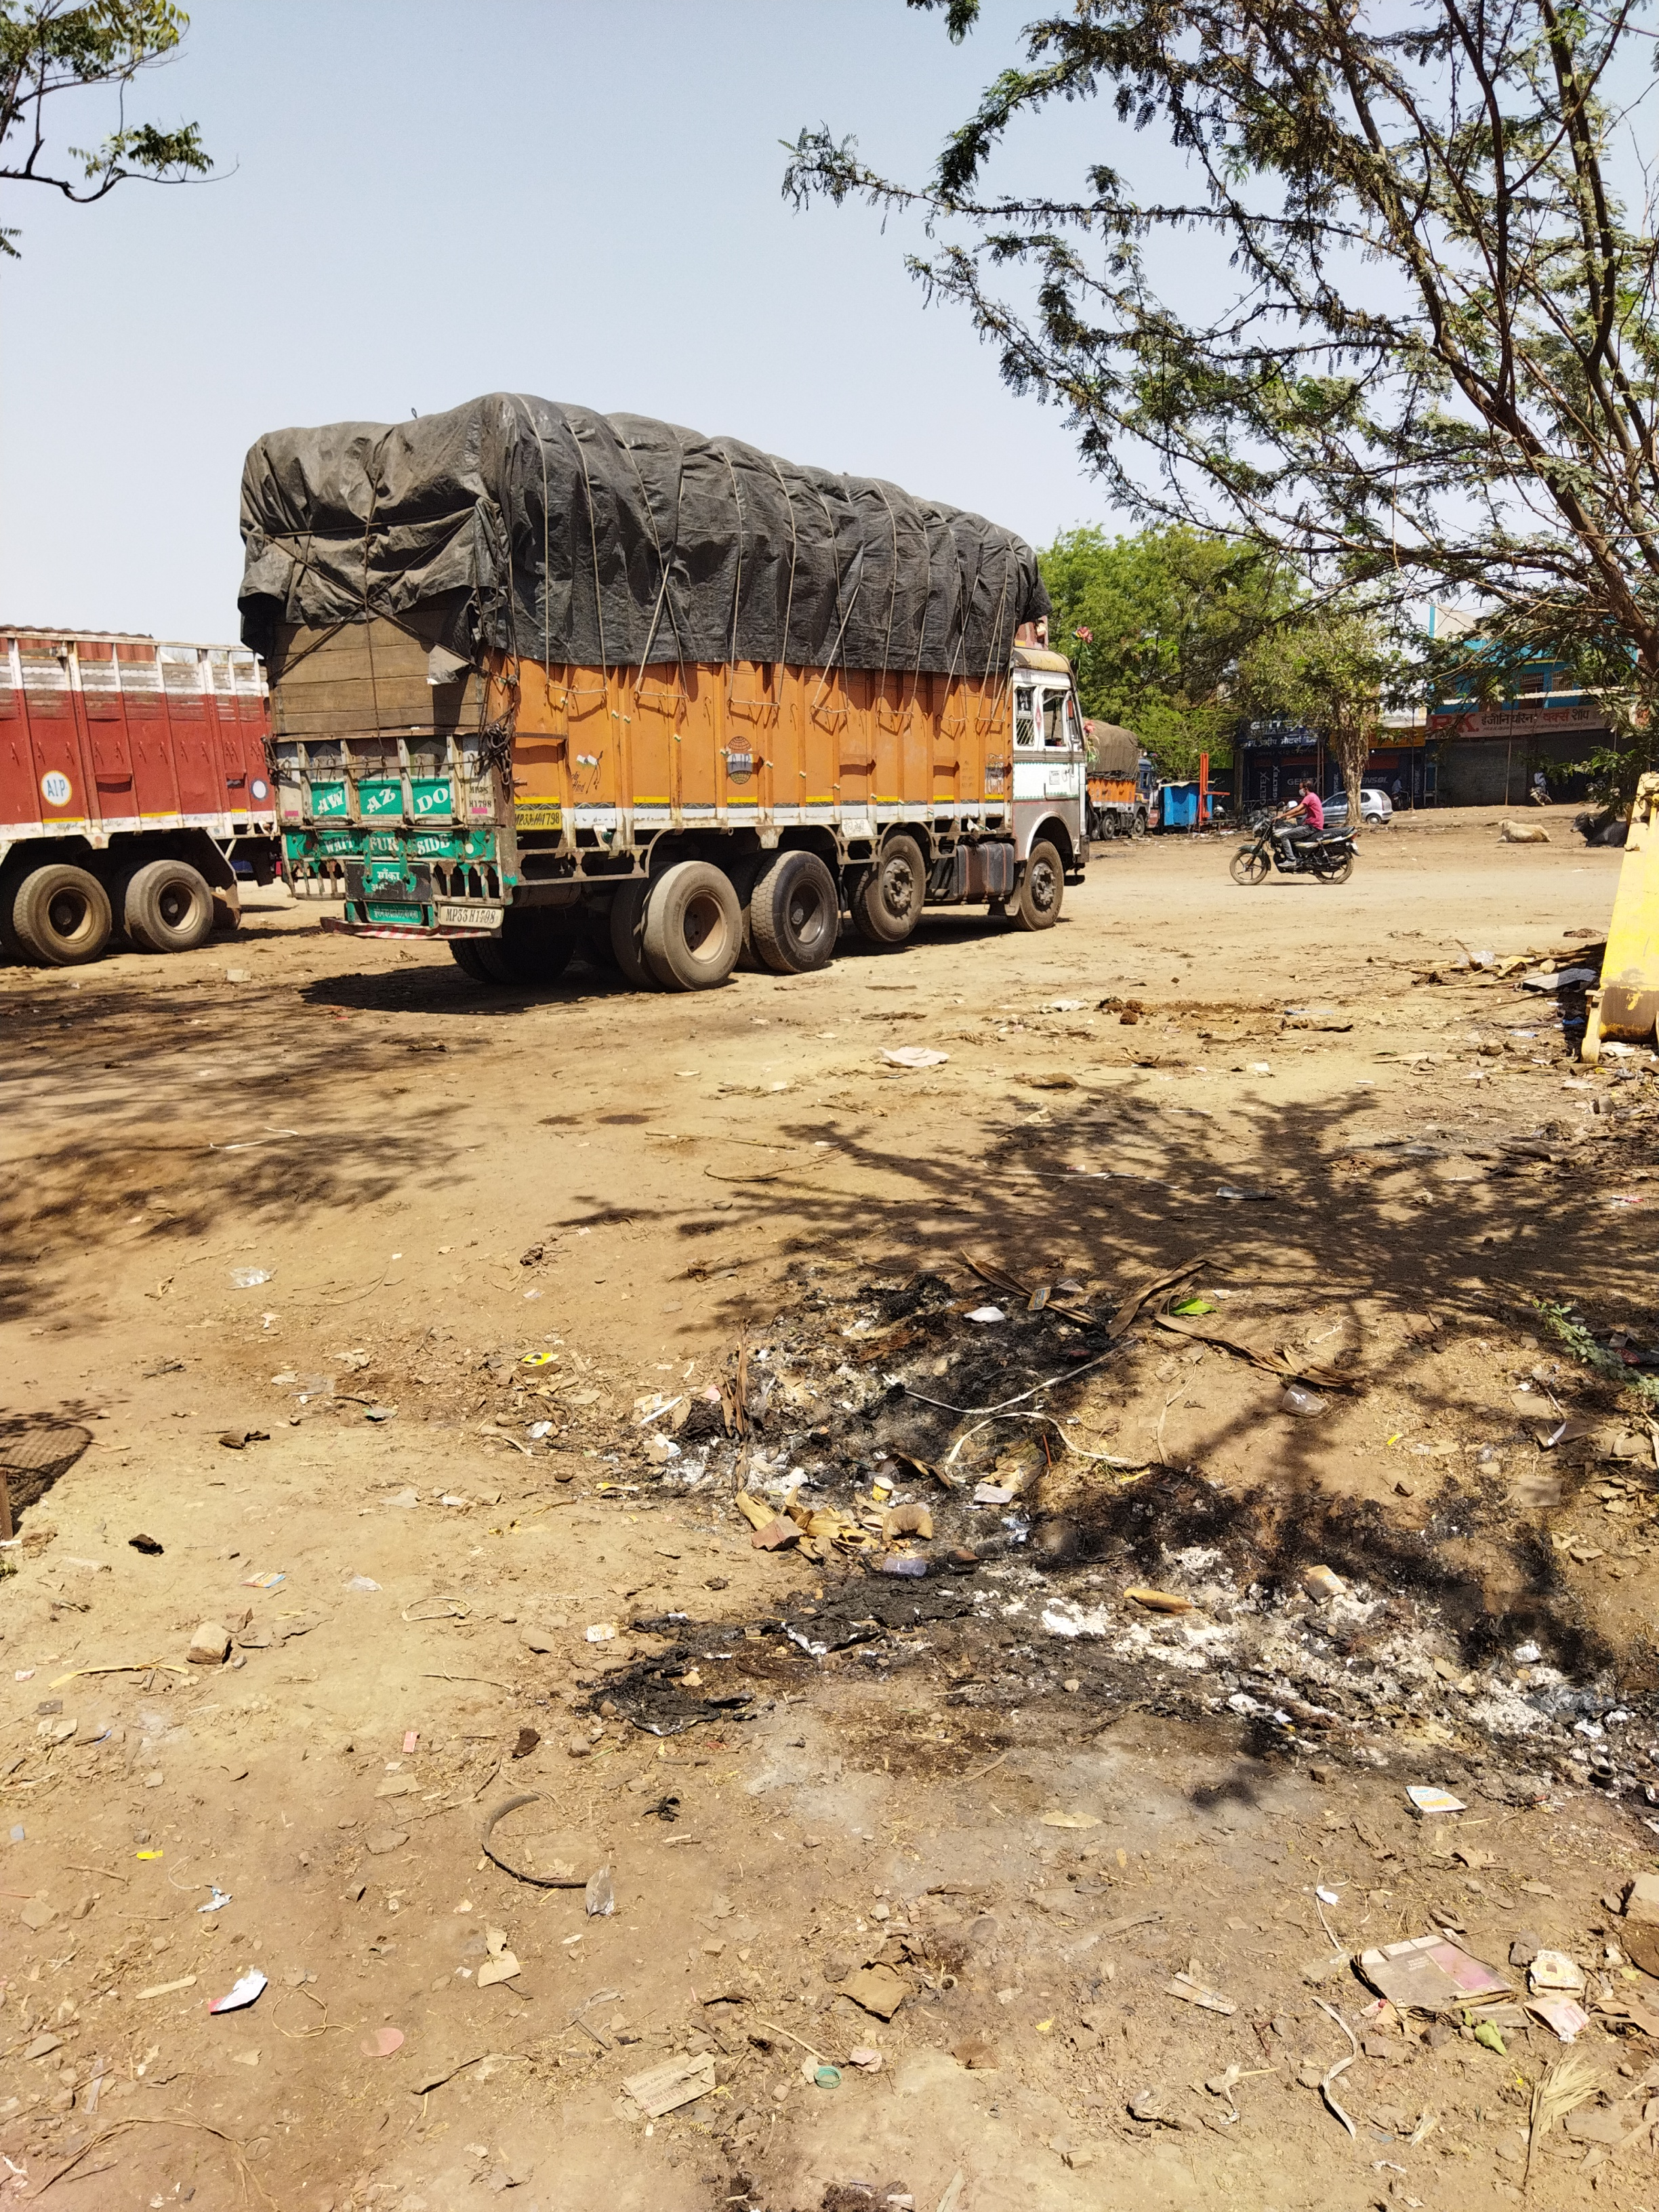truck: (234, 388, 1093, 995), (0, 624, 284, 970), (1079, 718, 1157, 840)
